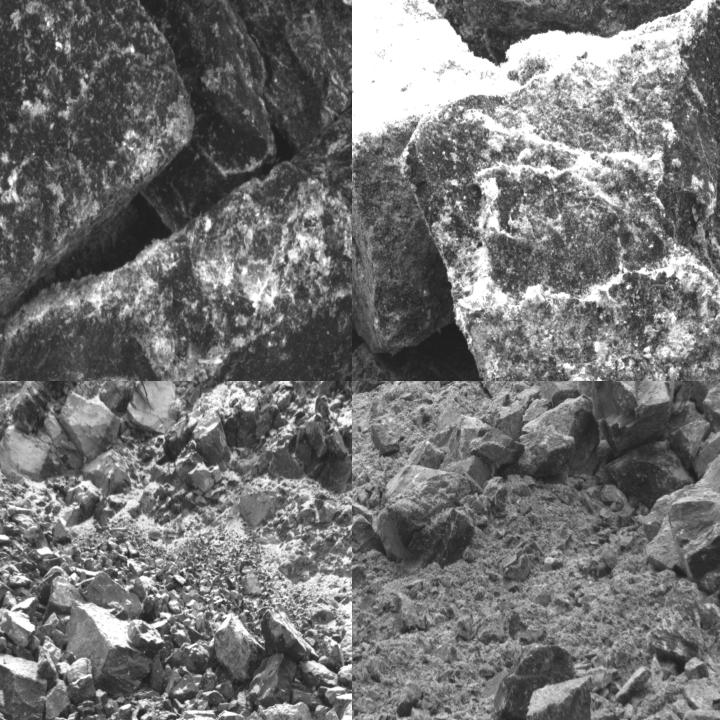stone: (398, 0, 719, 380), (0, 162, 351, 380), (0, 0, 196, 321), (352, 0, 494, 361), (110, 0, 279, 234), (220, 0, 351, 148), (637, 430, 719, 601), (291, 57, 351, 279), (376, 466, 480, 562), (66, 602, 150, 698), (442, 416, 527, 491), (605, 440, 694, 511), (521, 394, 599, 475), (494, 644, 577, 719), (401, 509, 473, 578), (646, 579, 704, 658), (213, 614, 264, 682), (261, 604, 319, 661), (526, 675, 601, 719), (0, 653, 47, 719), (81, 570, 144, 617), (250, 653, 297, 709), (518, 429, 574, 475), (46, 576, 83, 616), (126, 620, 165, 657), (65, 656, 97, 699), (0, 610, 34, 646), (352, 514, 383, 553), (45, 676, 72, 719), (370, 423, 400, 454), (260, 701, 311, 719), (551, 381, 580, 408), (684, 656, 709, 680), (353, 381, 388, 394), (321, 707, 340, 719)
